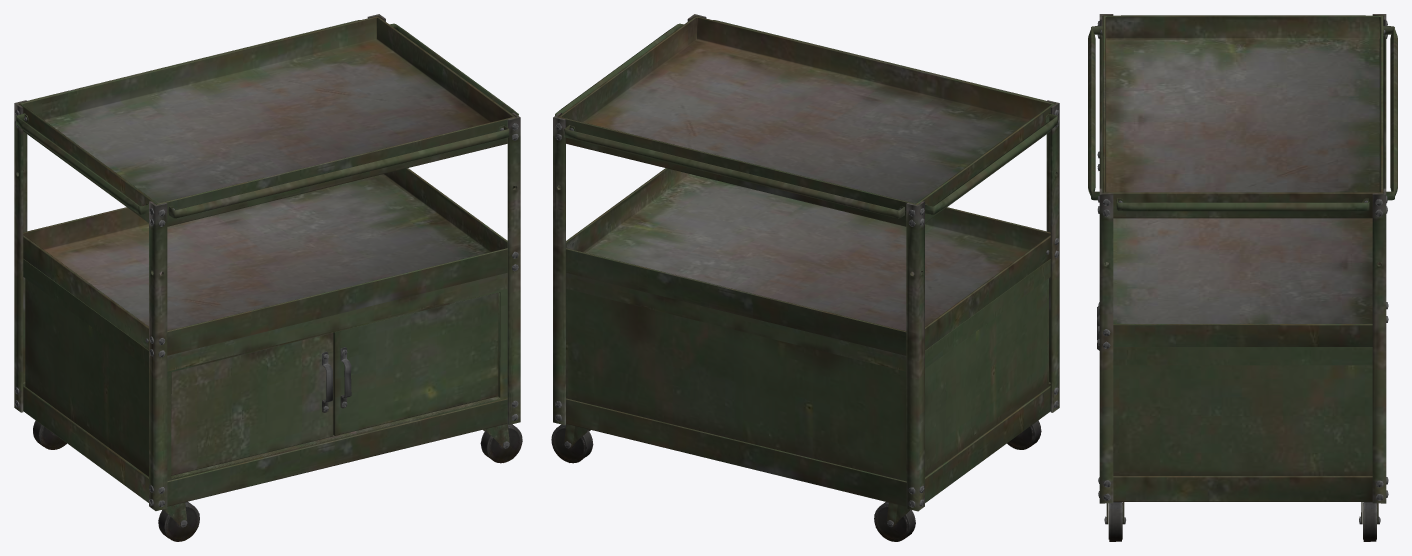
The model's file is tekerlekli_dolap.gltf.
3 views of the same model, side by side, from view 1: azimuth 30°, elevation 25°; view 2: azimuth 150°, elevation 25°; view 3: azimuth 270°, elevation 25° (orthographic).
Visible parts, largest first — view 1: tekerlekli_dolap; view 2: tekerlekli_dolap; view 3: tekerlekli_dolap.
Part boxes in pixels (box(x1,y1,x2,y2)): tekerlekli_dolap: box(14, 14, 522, 541); tekerlekli_dolap: box(551, 14, 1059, 541); tekerlekli_dolap: box(1088, 14, 1397, 541).
Size of what is drawn, in the model's own units: 1.6 by 1.38 by 1.1.
1 material, 1 textured.
